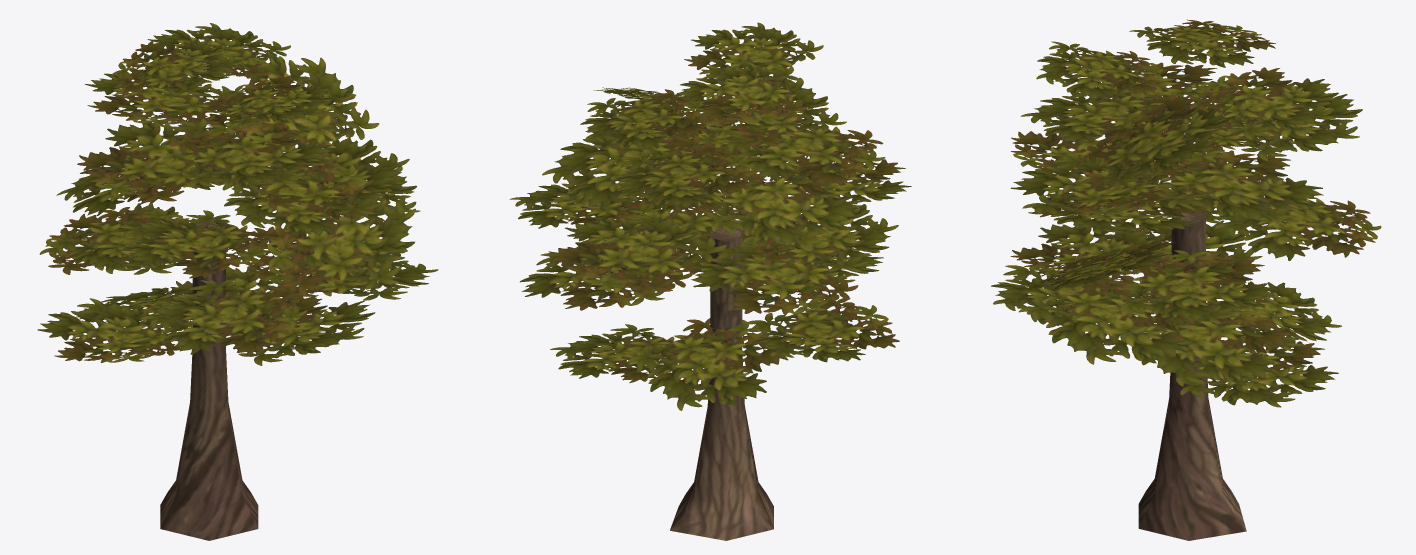
File: Tree_E_1.fbx
3 views of the same model, side by side, from view 1: azimuth 30°, elevation 25°; view 2: azimuth 150°, elevation 25°; view 3: azimuth 270°, elevation 25° (orthographic). The views are drawn at different scales.
Visible parts, largest first — view 1: Tree_E_1__30_, Tree_D_Trunk; view 2: Tree_E_1__30_, Tree_D_Trunk; view 3: Tree_E_1__30_, Tree_D_Trunk.
Part boxes in pixels (x1,y1,x2,y2): Tree_E_1__30_: (37,23,438,365); Tree_D_Trunk: (160,217,258,540); Tree_E_1__30_: (509,22,911,410); Tree_D_Trunk: (670,227,773,540); Tree_E_1__30_: (991,19,1381,407); Tree_D_Trunk: (1138,211,1246,540).
Bounding box in the file's own units: 0.8029 × 0.8199 × 0.6913.
